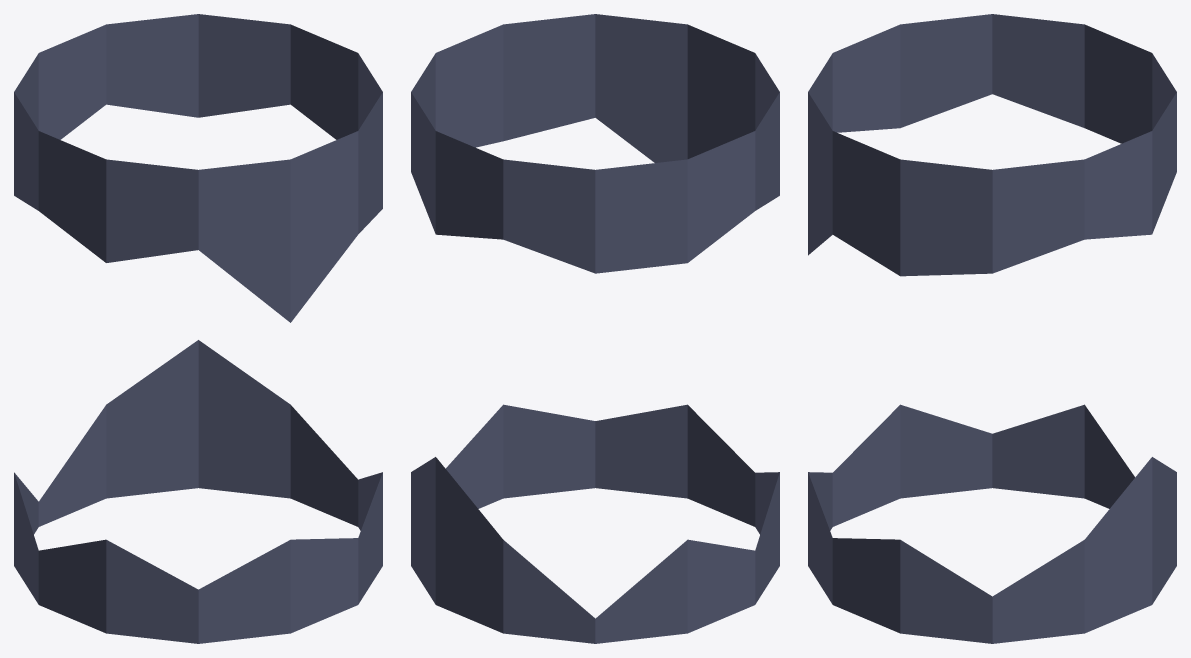
File: VitrineGlassDestroyed.fbx
3 renders of one model, left to right at view 1: azimuth 30°, elevation 25°; view 2: azimuth 150°, elevation 25°; view 3: azimuth 270°, elevation 25°, orthographic.
Visible parts, largest first — view 1: Cylinder.002; view 2: Cylinder.002; view 3: Cylinder.002.
Boxes of the visible parts, x1=… form: Cylinder.002: x1=14, y1=14, x2=382, y2=643; Cylinder.002: x1=411, y1=14, x2=779, y2=643; Cylinder.002: x1=808, y1=14, x2=1176, y2=643.
Bounding box in the file's own units: 243 × 344 × 243.
